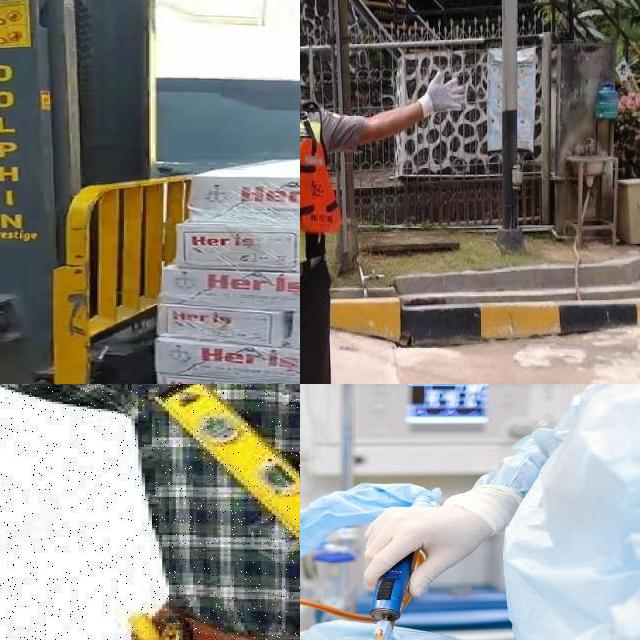GLOVE: (358, 504, 498, 596), (417, 68, 465, 118)
VEST: (300, 110, 339, 266)
